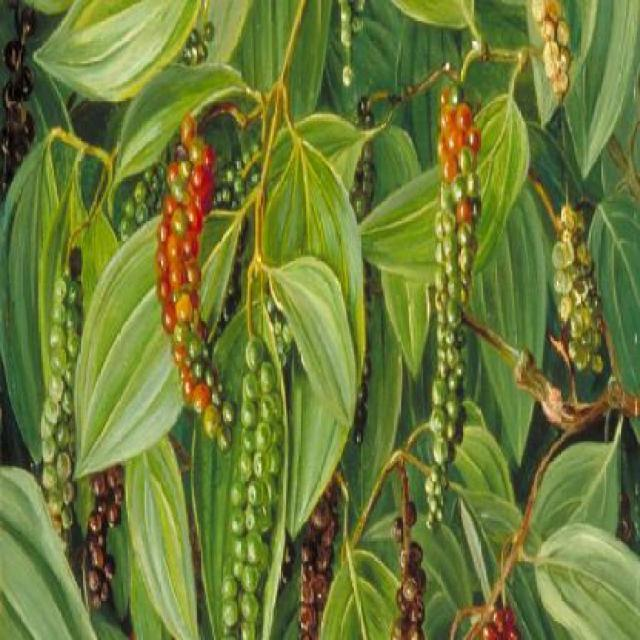RIPE: (157, 140, 226, 432), (428, 99, 489, 203), (85, 473, 117, 622)
UNRIPE: (226, 333, 277, 639), (25, 246, 72, 526), (537, 211, 609, 385)
